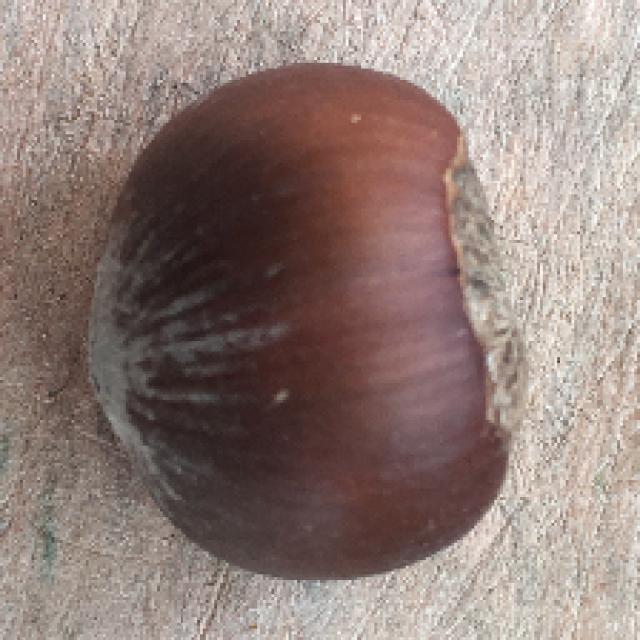qualityHazelnut: (77, 62, 535, 584)
